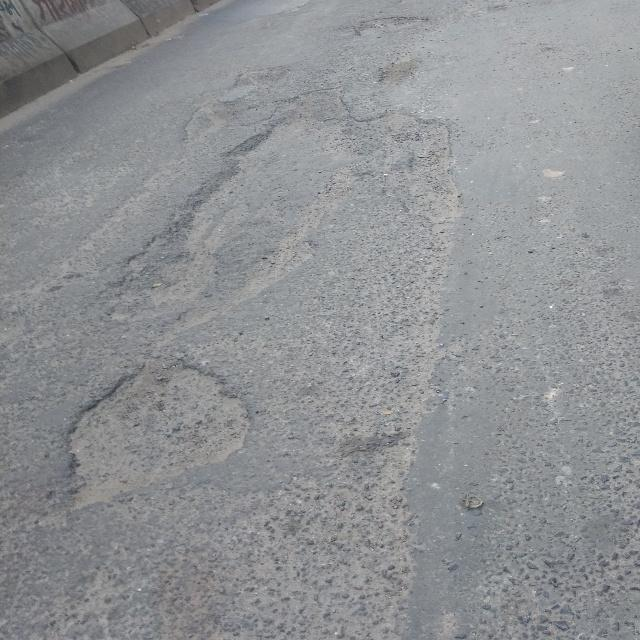Surface Erosion: (59, 0, 494, 639)
